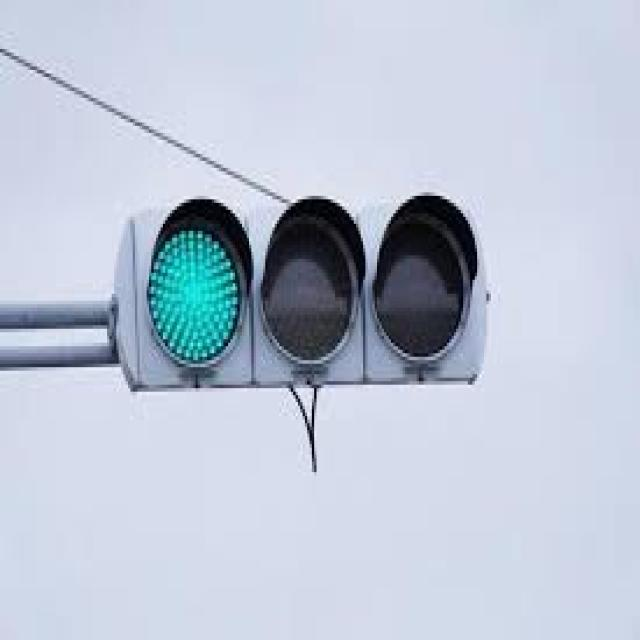green: (136, 204, 254, 376)
